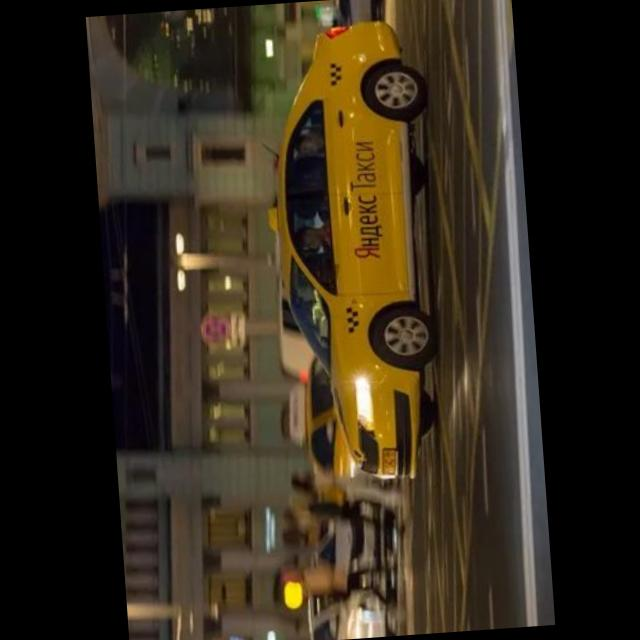taxi: (254, 17, 456, 489)
